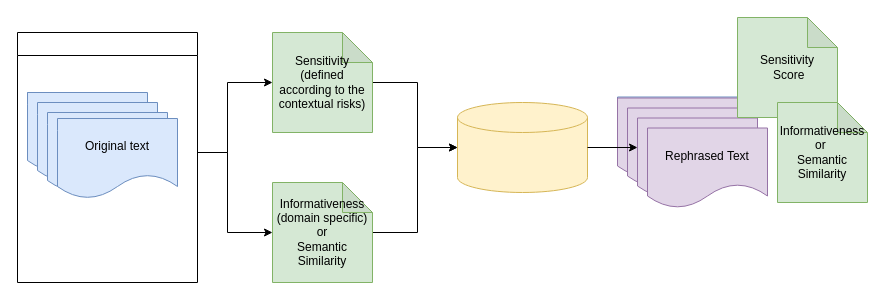
This 885x300 diagram has some shape labels left out. Each missing label, with the centre of its shape:
Large Language Model: pixel 522 147
Platform: pixel 107 157
